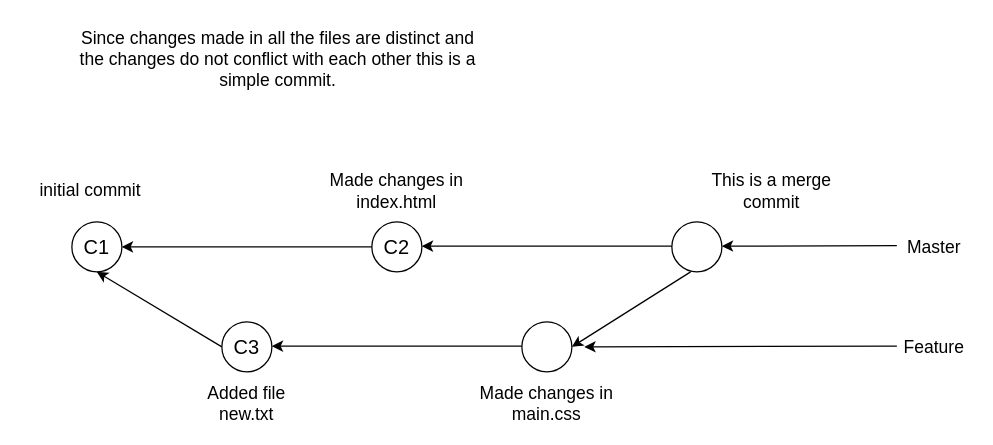
Some shapes in this 993 by 445 pixel diagram are drawn without their labels. Here are the shapes that lost their labels. From the top down, the box of each, then its label:
(671, 221, 722, 272): C5
(521, 321, 572, 372): C4
